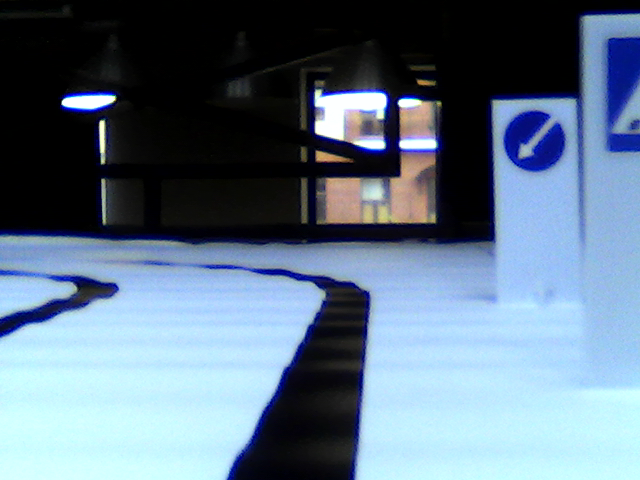prep: (499, 110, 569, 173)
